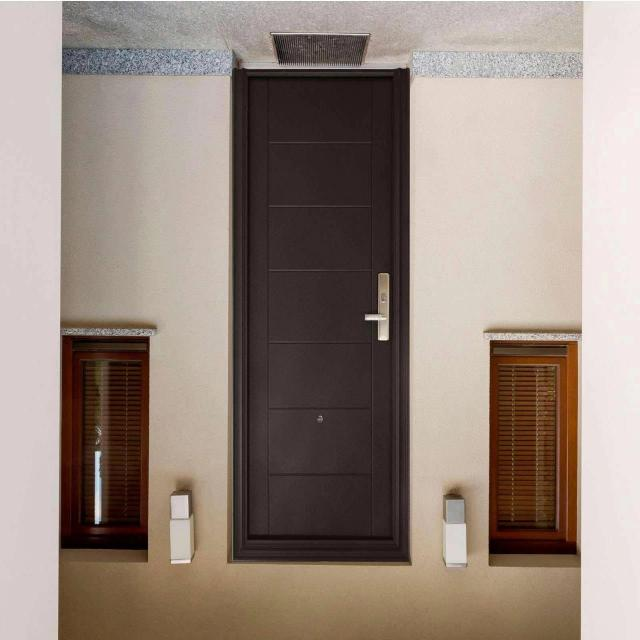door: (234, 68, 408, 564)
